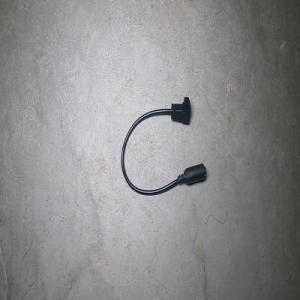Wire: (120, 96, 206, 196)
